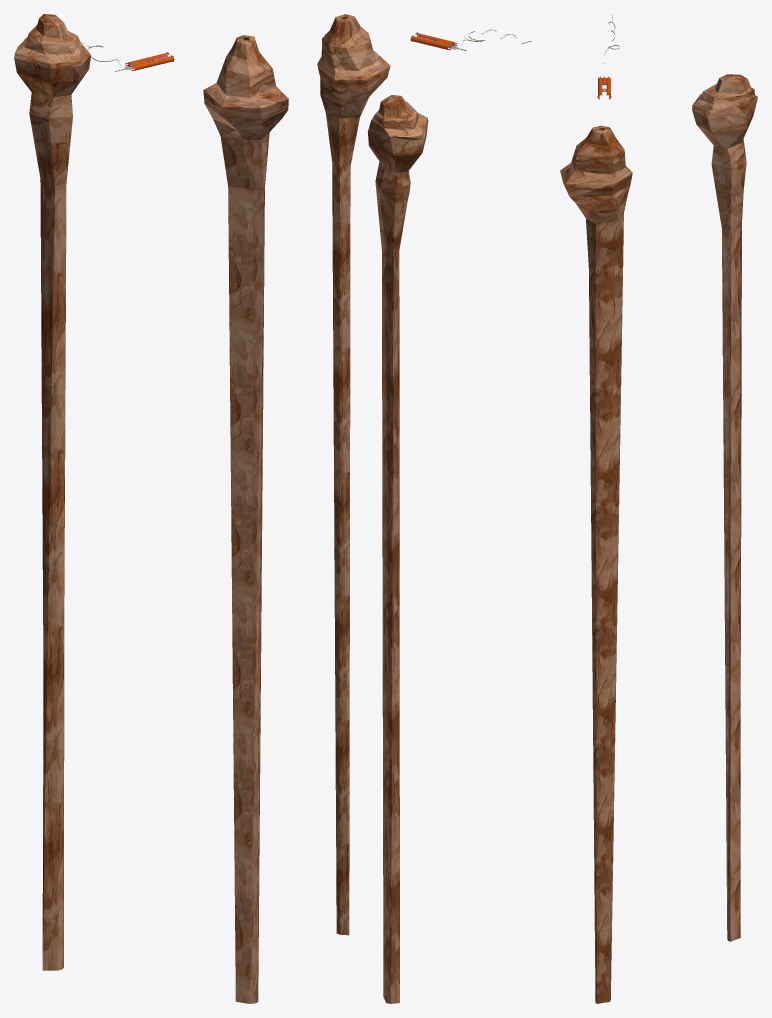
File: railcanyon19.obj
3 renders of one model, left to right at view 1: azimuth 30°, elevation 25°; view 2: azimuth 150°, elevation 25°; view 3: azimuth 270°, elevation 25°, orthographic. The views are drawn at different scales.
Parts seen in each view (by area): view 1: Object_2; view 2: Object_2; view 3: Object_2.
Part boxes in pixels (x1,y1,x2,y2): Object_2: (14, 14, 288, 1003); Object_2: (317, 14, 531, 1003); Object_2: (560, 14, 757, 1003).
Bounding box in the file's own units: 11917 × 49281 × 9839.
34 materials, 33 textured.
